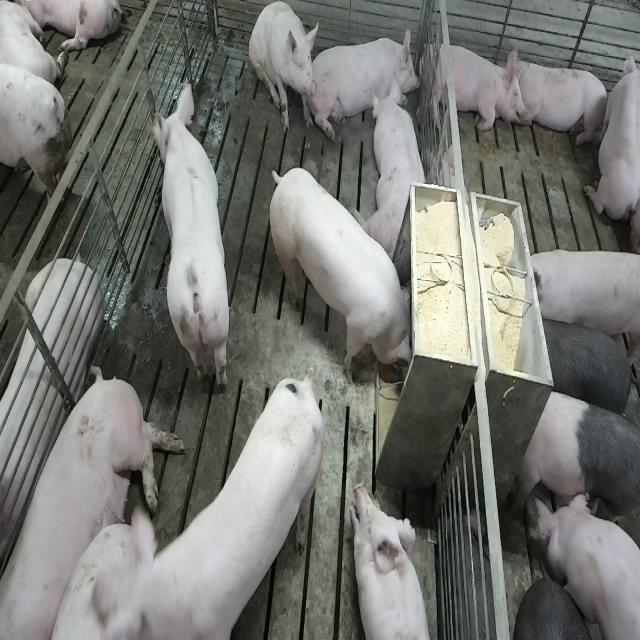Feeding: (273, 166, 421, 390)
Lateral_lying: (3, 362, 188, 635), (0, 257, 103, 579)
Sitting: (249, 2, 319, 137)
Standing: (134, 367, 330, 634), (150, 79, 230, 396), (516, 384, 638, 547), (530, 486, 638, 640), (522, 246, 638, 356), (534, 313, 638, 421)
Sternal_lying: (349, 483, 433, 640), (314, 26, 423, 136), (365, 83, 431, 264), (584, 42, 637, 233), (511, 52, 610, 150), (426, 36, 524, 135)
